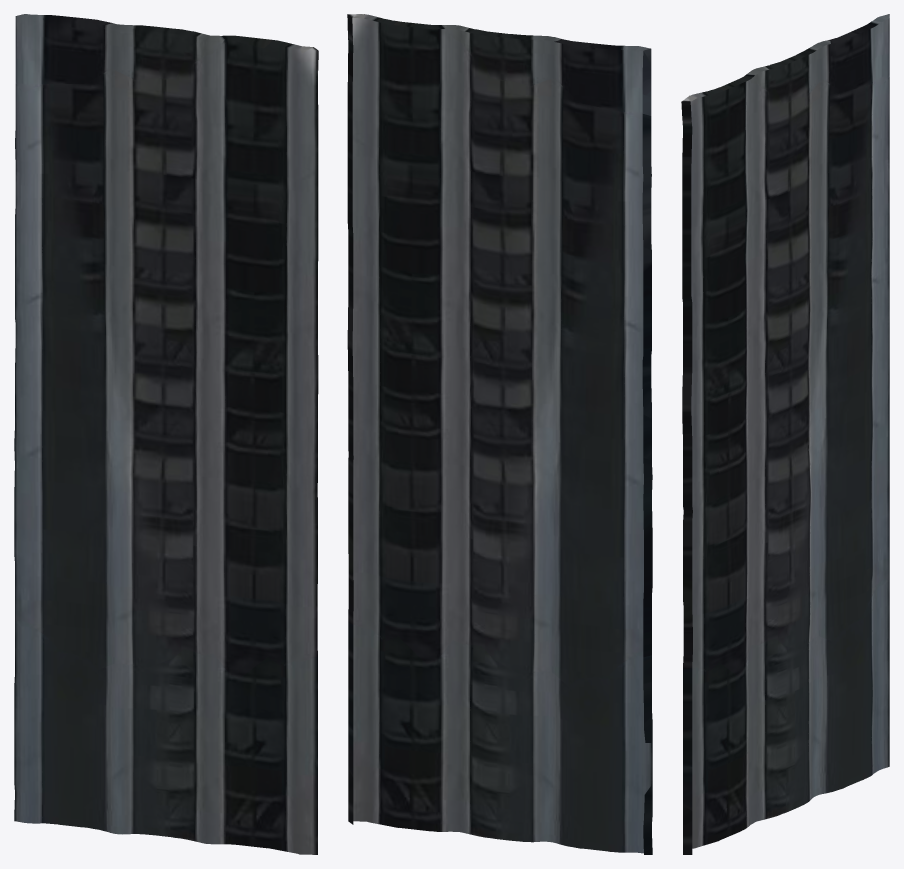
File: z20-167780-405234-h1-yup-uvflip-v3-world.glb
3 views of the same model, side by side, from view 1: azimuth 30°, elevation 25°; view 2: azimuth 210°, elevation 25°; view 3: azimuth 270°, elevation 25° (orthographic). The views are drawn at different scales.
Size of the model in its own units: 10.84 by 43.12 by 10.8.
1 material, 1 textured.
